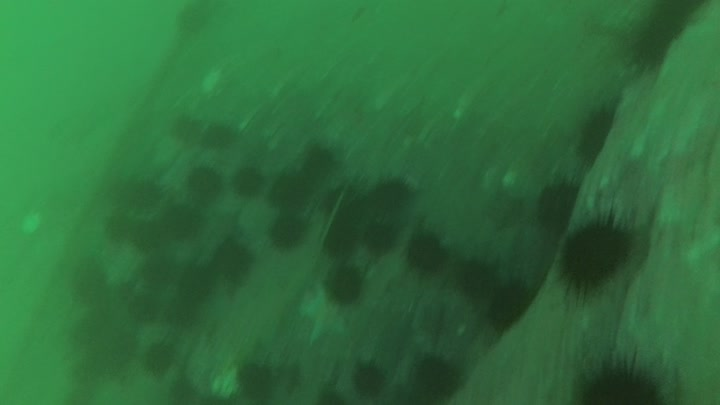echinus: (552, 206, 647, 309), (573, 351, 668, 405), (627, 13, 688, 75), (488, 273, 541, 344), (576, 105, 634, 168), (535, 177, 589, 241), (407, 350, 467, 405), (455, 252, 508, 309), (207, 236, 256, 288), (69, 258, 117, 308), (323, 264, 374, 308), (264, 207, 310, 255), (367, 170, 416, 215), (294, 144, 343, 188), (106, 323, 144, 378), (405, 230, 450, 276), (70, 304, 109, 356), (267, 169, 311, 215), (159, 201, 208, 242), (182, 163, 226, 207), (235, 361, 279, 403), (140, 254, 185, 294), (316, 220, 358, 261), (71, 350, 113, 389), (130, 220, 173, 258), (175, 261, 214, 302), (108, 281, 149, 320), (349, 361, 391, 399), (142, 341, 180, 382), (127, 291, 165, 331), (130, 176, 168, 215), (162, 293, 198, 334), (174, 1, 210, 41), (321, 180, 362, 215), (364, 218, 400, 256), (101, 210, 137, 248), (648, 1, 713, 22), (201, 118, 240, 153), (229, 165, 269, 199), (170, 114, 204, 149), (166, 379, 201, 405), (391, 384, 421, 405), (314, 389, 349, 405), (61, 392, 100, 405), (205, 395, 235, 405)
starfish: (297, 284, 351, 345), (204, 209, 249, 247)
